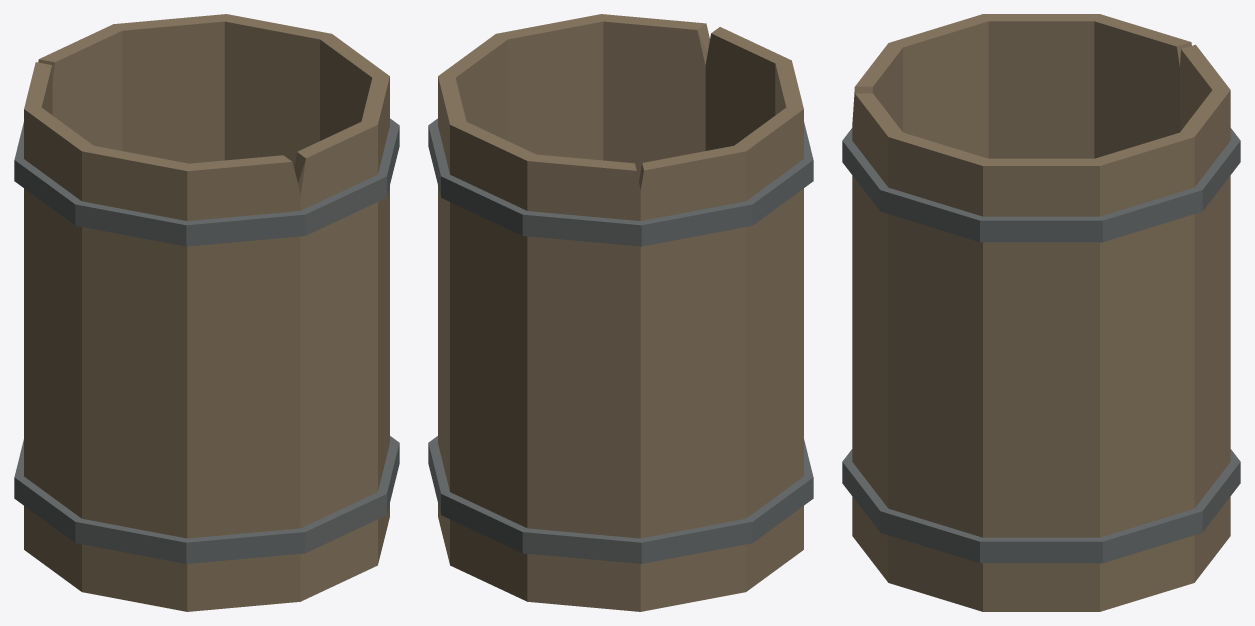
File: SM_Props_Farm_Bucket_Wood_03.fbx
The picture shows the model from 3 angles, left to right: view 1: azimuth 30°, elevation 25°; view 2: azimuth 150°, elevation 25°; view 3: azimuth 270°, elevation 25°; orthographic projection.
Parts seen in each view (by area): view 1: SM_Props_Farm_Bucket_Wood_03; view 2: SM_Props_Farm_Bucket_Wood_03; view 3: SM_Props_Farm_Bucket_Wood_03.
Boxes of the visible parts, <box> form: SM_Props_Farm_Bucket_Wood_03: <box>14,14,399,611</box>; SM_Props_Farm_Bucket_Wood_03: <box>428,14,813,611</box>; SM_Props_Farm_Bucket_Wood_03: <box>842,14,1240,611</box>.
Bounding box in the file's own units: 100 × 130 × 105.
